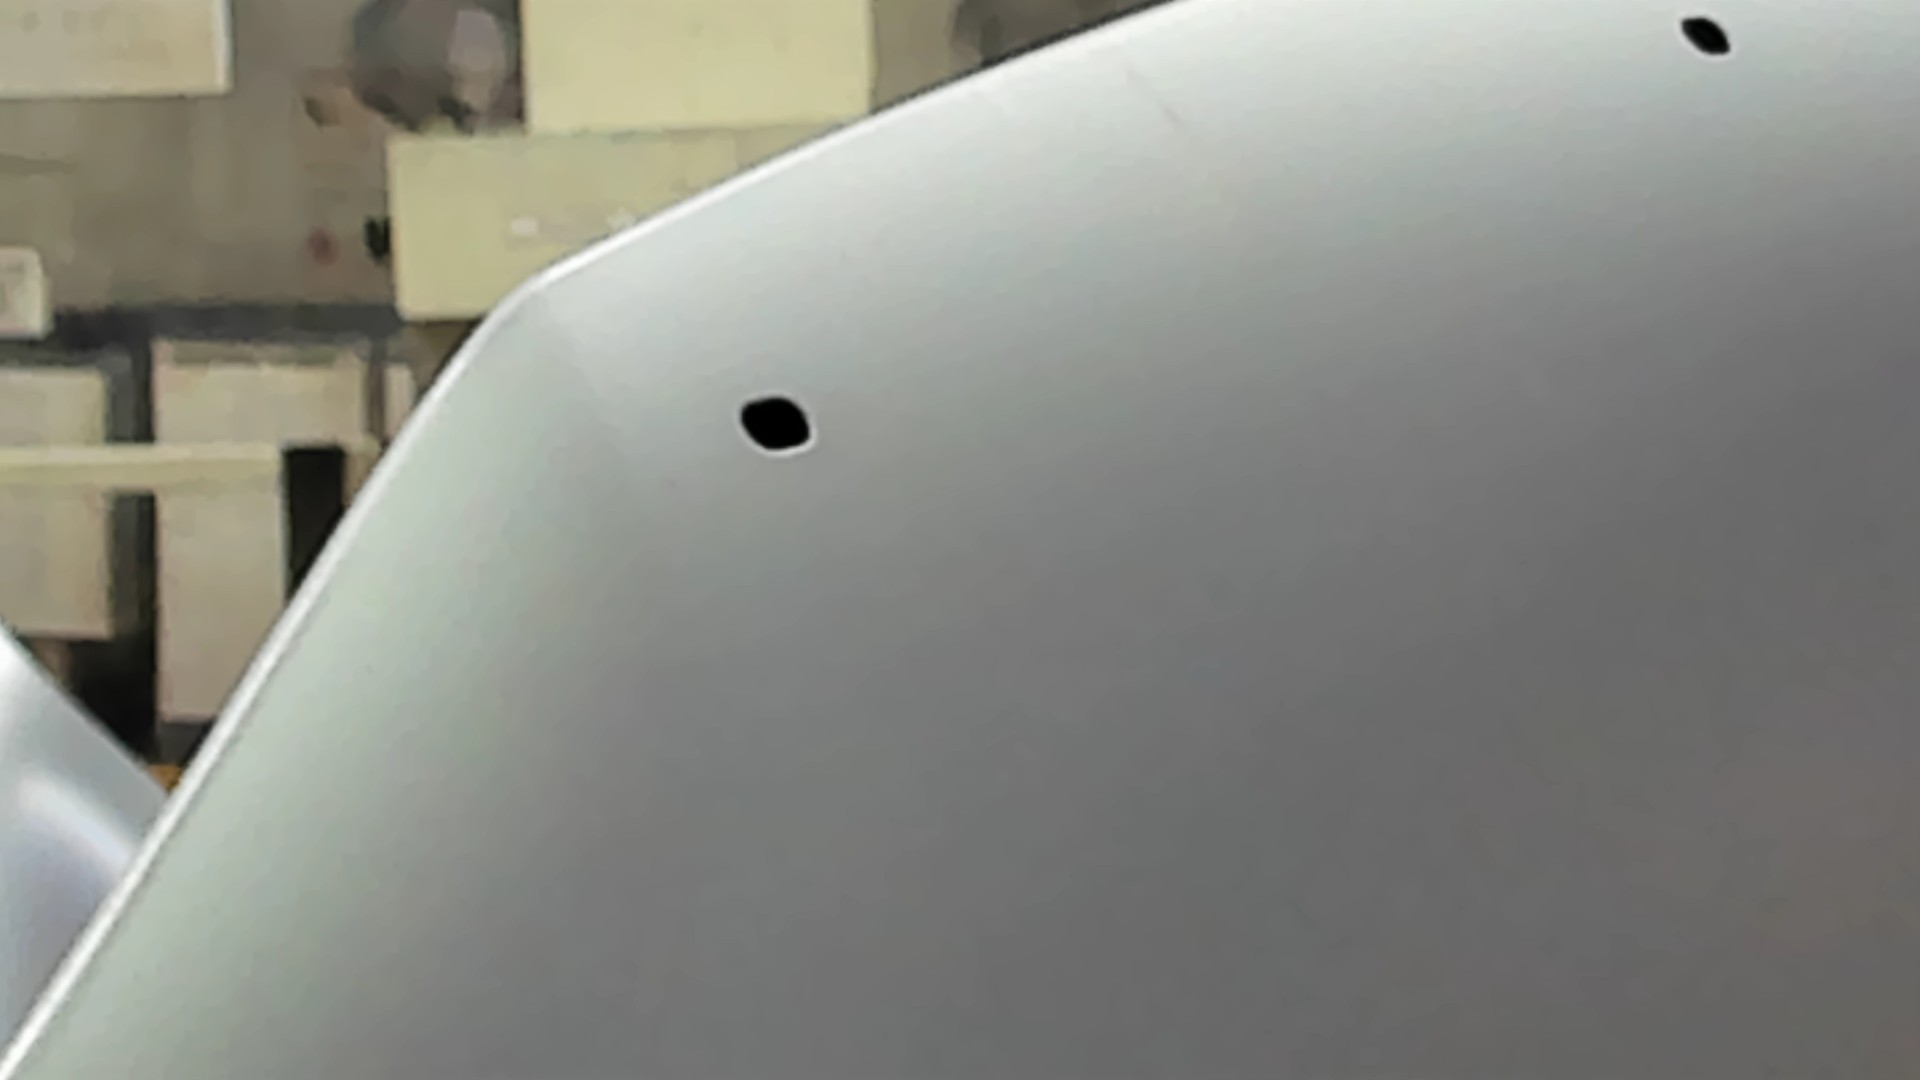amorfo: (733, 390, 822, 458), (1671, 15, 1737, 61)
capo: (872, 175, 1920, 1080)
